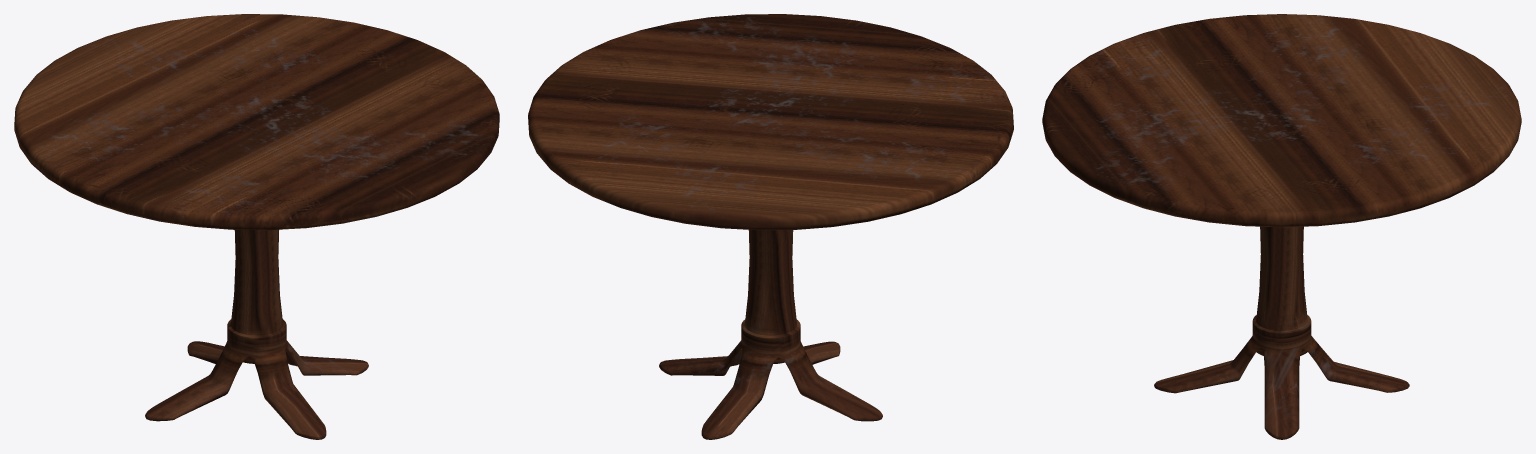
File: table.fbx
3 renders of one model, left to right at view 1: azimuth 30°, elevation 25°; view 2: azimuth 150°, elevation 25°; view 3: azimuth 270°, elevation 25°, orthographic.
Visible parts, largest first — view 1: table; view 2: table; view 3: table.
Boxes of the visible parts, bbox=[...] form: table: bbox=[14, 14, 499, 439]; table: bbox=[528, 14, 1013, 439]; table: bbox=[1042, 14, 1521, 439].
Size of the model in its own units: 11.66 by 7.36 by 11.66.
